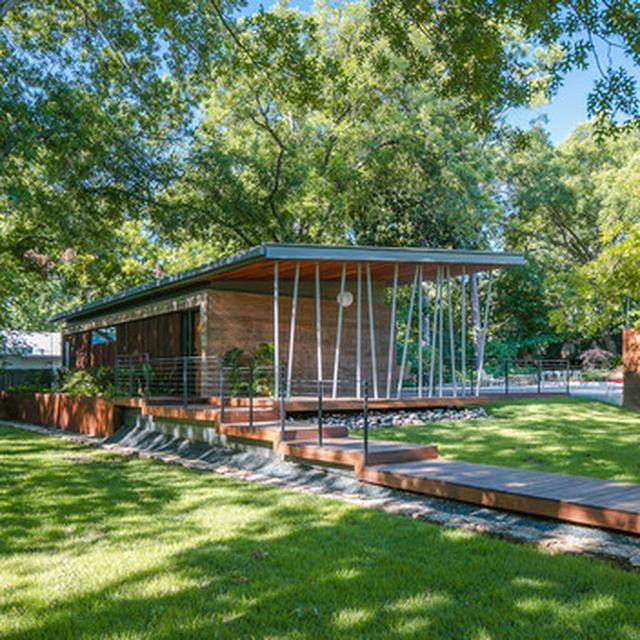building: (49, 242, 522, 412)
